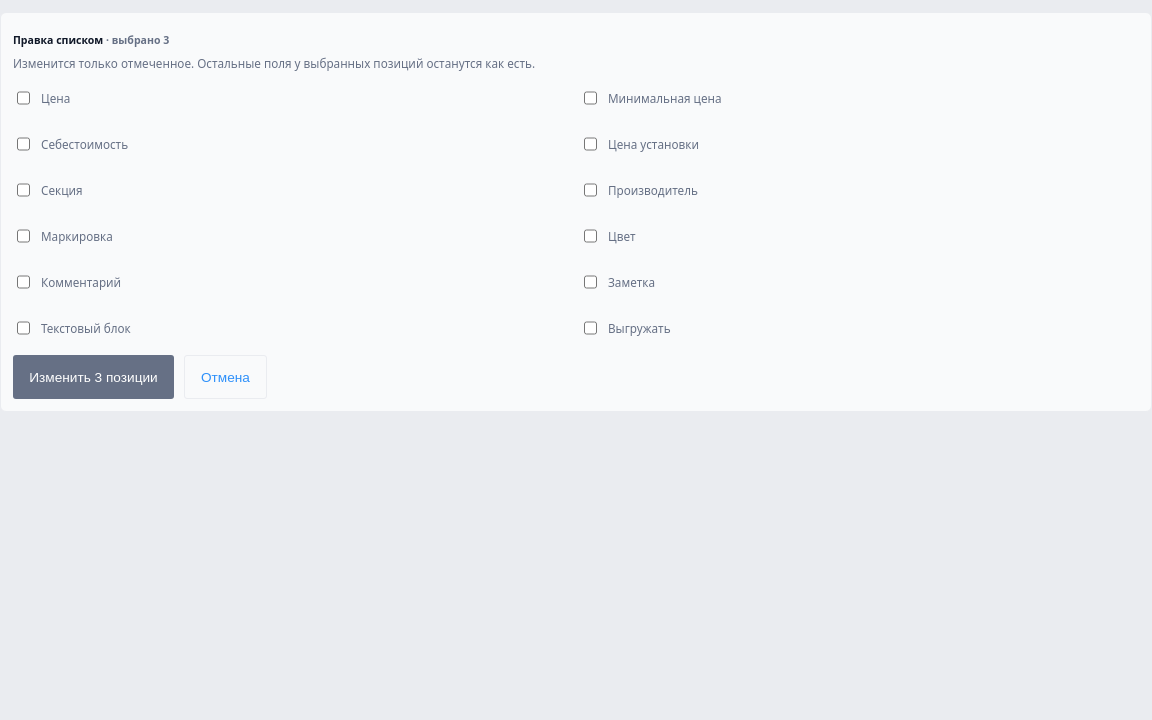
Test: операция с ценой › операция без значения не даёт сохранить и говорит почему
This screenshot has width=1152, height=720.
Click the checkbox labelled "Цена" at (24, 98), box [17,82,30,114]
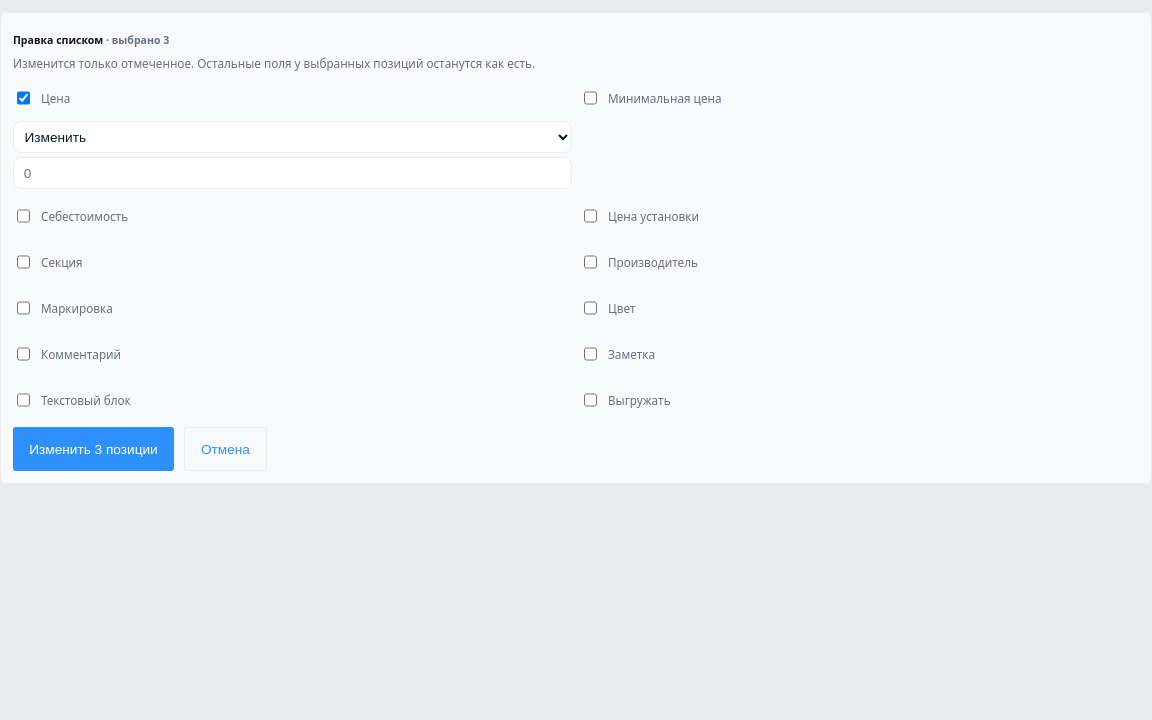
Select "Округлить до" in the dropdown named "Операция: Цена" at (292, 137), box [13,121,572,153]
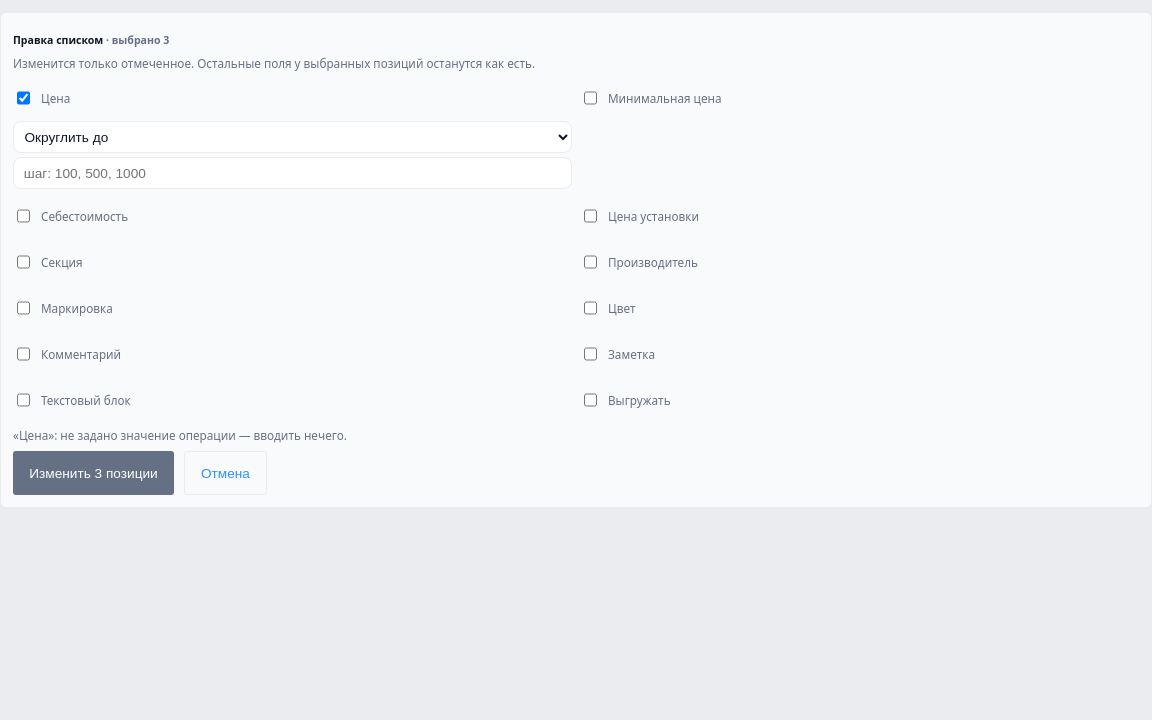
Result: the text "«Цена»: не задано значение операции — вводить нечего." is shown at [13,427,347,443]
Result: the button "Изменить 3 позиции" is disabled at [13,451,174,495]
